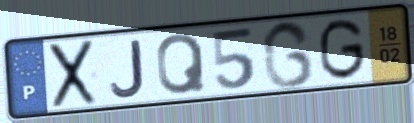5: (209, 25, 258, 92)
G: (260, 18, 316, 91), (317, 16, 368, 83)
J: (108, 37, 147, 99)
Q: (154, 31, 208, 98)
X: (47, 37, 99, 112)
